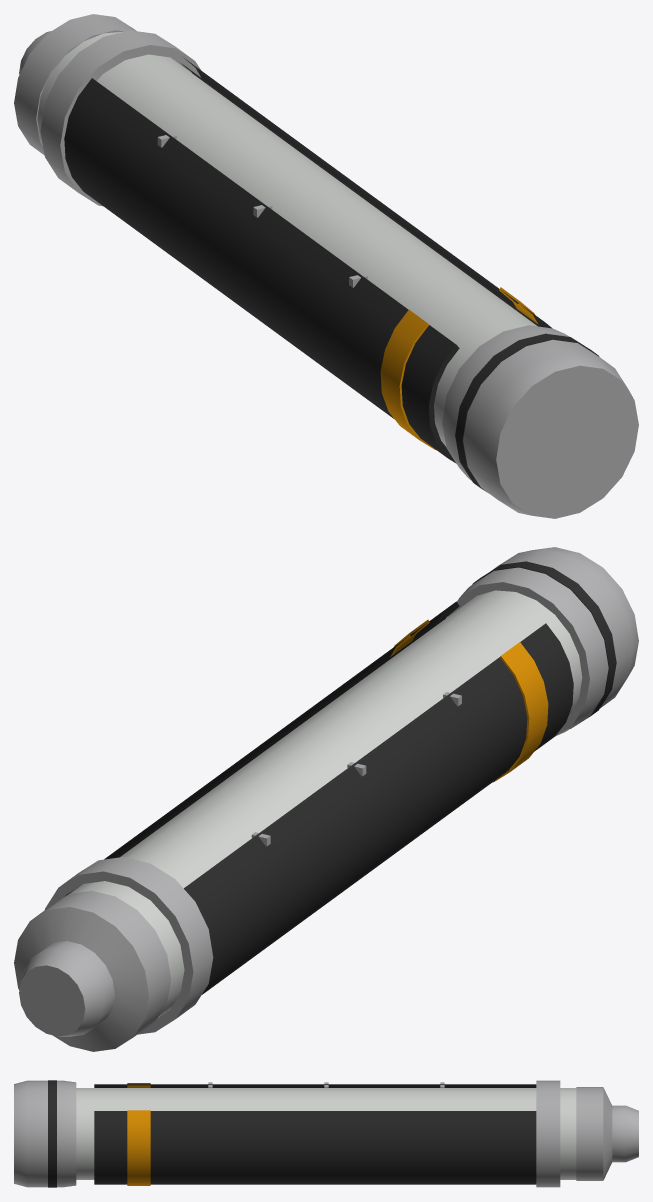
The model's file is stim_s1.glb.
3 views of the same model, one above another, from view 1: azimuth 30°, elevation 25°; view 2: azimuth 150°, elevation 25°; view 3: azimuth 270°, elevation 25° (orthographic). The views are drawn at different scales.
Visible parts, largest first — view 1: body; view 2: body; view 3: body.
Part boxes in pixels (bbox=[...]): body: bbox=[14, 14, 638, 518]; body: bbox=[14, 547, 638, 1051]; body: bbox=[14, 1080, 638, 1187].
Bounding box in the file's own units: 0.0121 × 0.0119 × 0.07.
